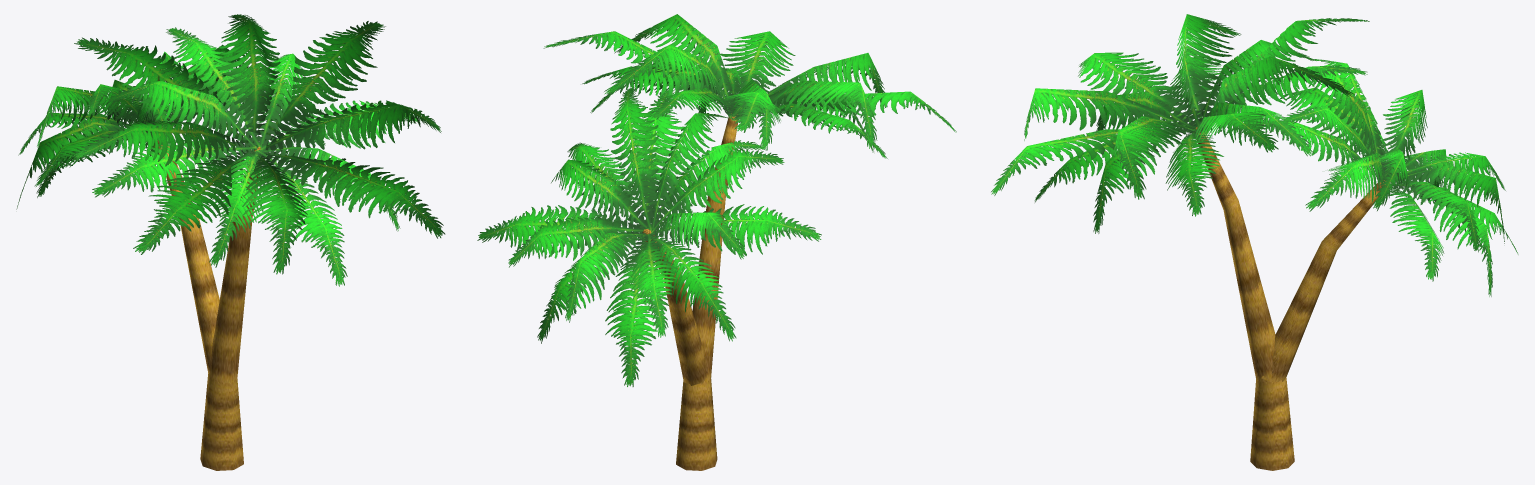
File: palm04.obj
The picture shows the model from 3 angles, left to right: view 1: azimuth 30°, elevation 25°; view 2: azimuth 150°, elevation 25°; view 3: azimuth 270°, elevation 25°; orthographic projection. The views are drawn at different scales.
Visible parts, largest first — view 1: Duplicate08, Duplicate06, Cylinder01, Duplicate05, Duplicate07, Duplicate01, Triangles, Duplicate02, Duplicate04; view 2: Duplicate07, Duplicate01, Duplicate08, Cylinder01, Duplicate06, Duplicate02, Triangles, Duplicate05; view 3: Duplicate08, Duplicate07, Duplicate01, Cylinder01, Duplicate06, Duplicate02, Duplicate05, Duplicate04, Triangles.
Part boxes in pixels (x1,y1,x2,y2): Duplicate08: [73, 14, 445, 274]; Duplicate06: [106, 53, 400, 267]; Cylinder01: [200, 146, 260, 470]; Duplicate05: [166, 27, 347, 286]; Duplicate07: [18, 44, 278, 155]; Duplicate01: [16, 68, 317, 209]; Triangles: [92, 139, 256, 197]; Duplicate02: [157, 140, 219, 373]; Duplicate04: [260, 100, 420, 151]; Duplicate07: [508, 87, 784, 337]; Duplicate01: [477, 89, 821, 386]; Duplicate08: [543, 14, 956, 149]; Cylinder01: [676, 113, 737, 470]; Duplicate06: [590, 66, 873, 152]; Duplicate02: [642, 229, 708, 385]; Triangles: [742, 103, 887, 158]; Duplicate05: [649, 88, 820, 125]; Duplicate08: [991, 14, 1369, 199]; Duplicate07: [1274, 59, 1505, 252]; Duplicate01: [1244, 87, 1518, 296]; Cylinder01: [1196, 127, 1294, 470]; Duplicate06: [1093, 40, 1315, 233]; Duplicate02: [1261, 180, 1385, 381]; Duplicate05: [1034, 65, 1367, 202]; Duplicate04: [1165, 130, 1223, 216]; Triangles: [1169, 57, 1222, 127].
Bounding box in the file's own units: 65.93 × 77.89 × 89.49.
